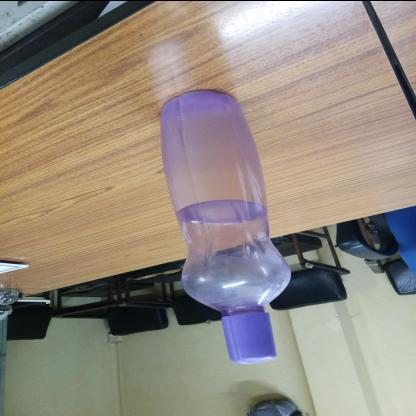bottle: (68, 223, 416, 326)
